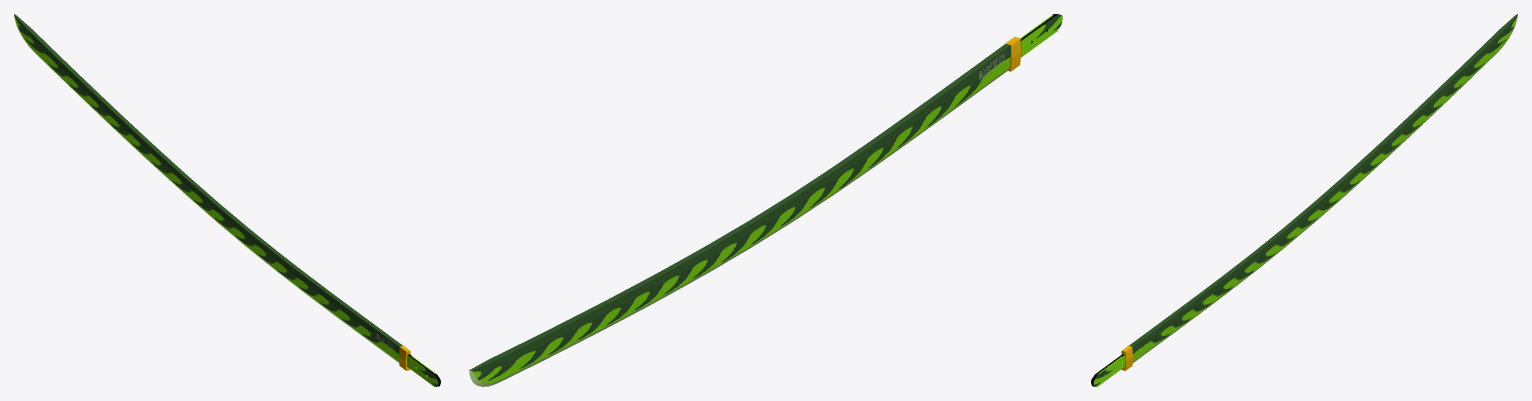
File: blade_wind.glb
3 renders of one model, left to right at view 1: azimuth 30°, elevation 25°; view 2: azimuth 150°, elevation 25°; view 3: azimuth 330°, elevation 25°, orthographic. The views are drawn at different scales.
Parts seen in each view (by area): view 1: Blade; view 2: Blade; view 3: Blade.
Boxes of the visible parts, x1=… form: Blade: x1=14, y1=14, x2=440, y2=386; Blade: x1=469, y1=14, x2=1062, y2=386; Blade: x1=1091, y1=14, x2=1517, y2=386.
Size of the model in its own units: 0.0197 by 0.2422 by 2.75.
Materials: 4 (1 with a texture image).
